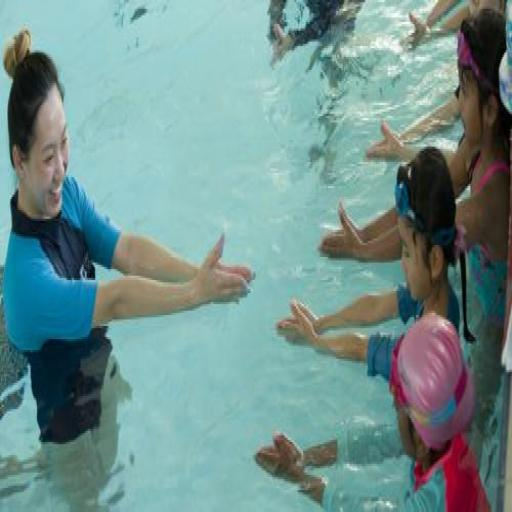swimming: (253, 308, 492, 510)
